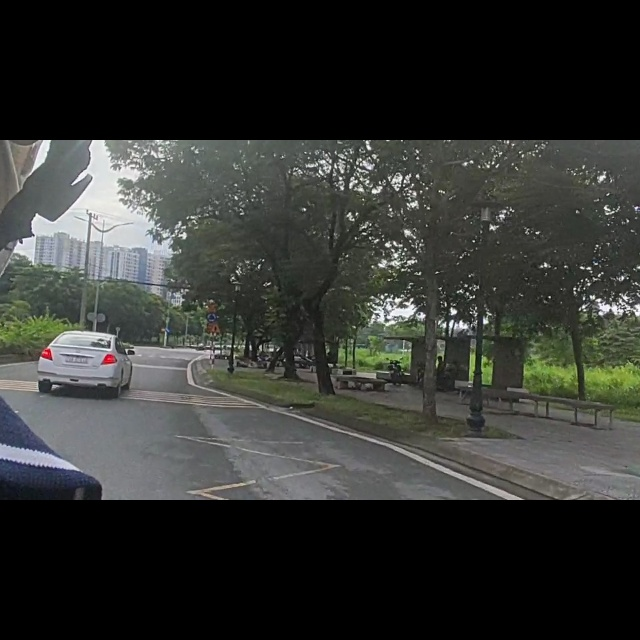bien_hieu_lenh: (211, 324, 223, 343), (207, 307, 218, 325), (159, 331, 166, 343), (166, 331, 171, 344)
